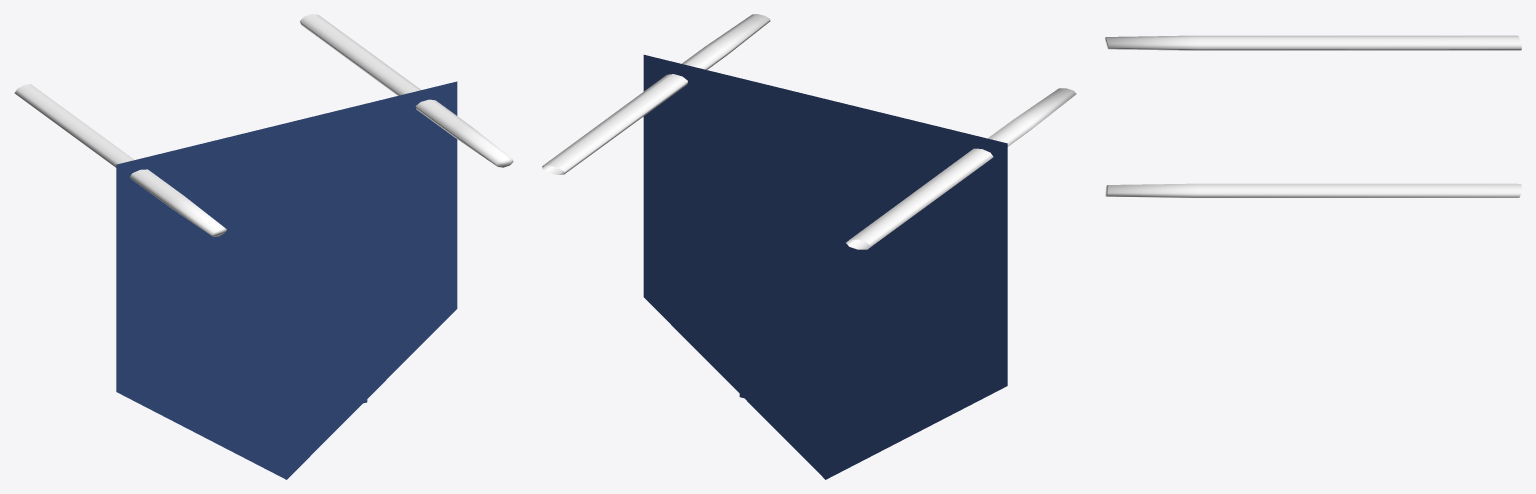
File: cloth_blue.glb
3 renders of one model, left to right at view 1: azimuth 30°, elevation 25°; view 2: azimuth 150°, elevation 25°; view 3: azimuth 270°, elevation 25°, orthographic. The views are drawn at different scales.
Parts seen in each view (by area): view 1: Banner_2_Cloth; view 2: Banner_2_Cloth; view 3: Banner_2_Cloth.
Boxes of the visible parts, x1,y1,x2,y2 form: Banner_2_Cloth: (14, 14, 513, 479); Banner_2_Cloth: (542, 14, 1076, 479); Banner_2_Cloth: (1105, 35, 1521, 197).
Bounding box in the file's own units: 1 × 1 × 1.
